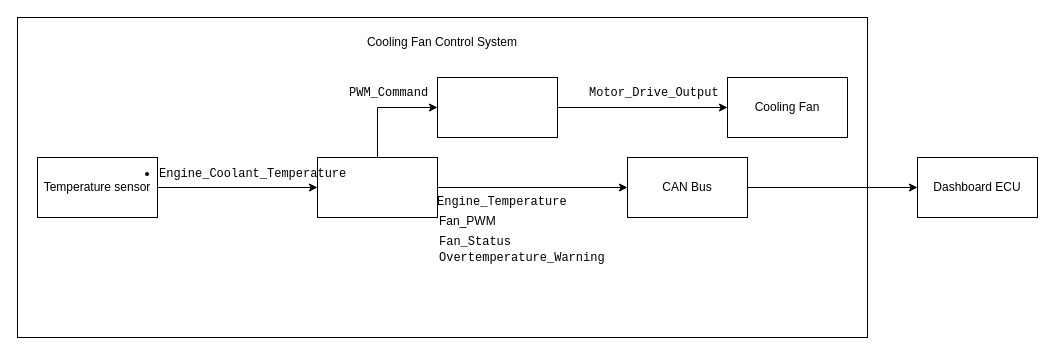
Some shapes in this 1055 by 355 pixel diagram are drawn without their labels. Here are the shapes that lost their labels. From the top down, the centre of each, then its label:
pixel 497 107: Fan Driver
pixel 377 187: Cooling fan ECU
